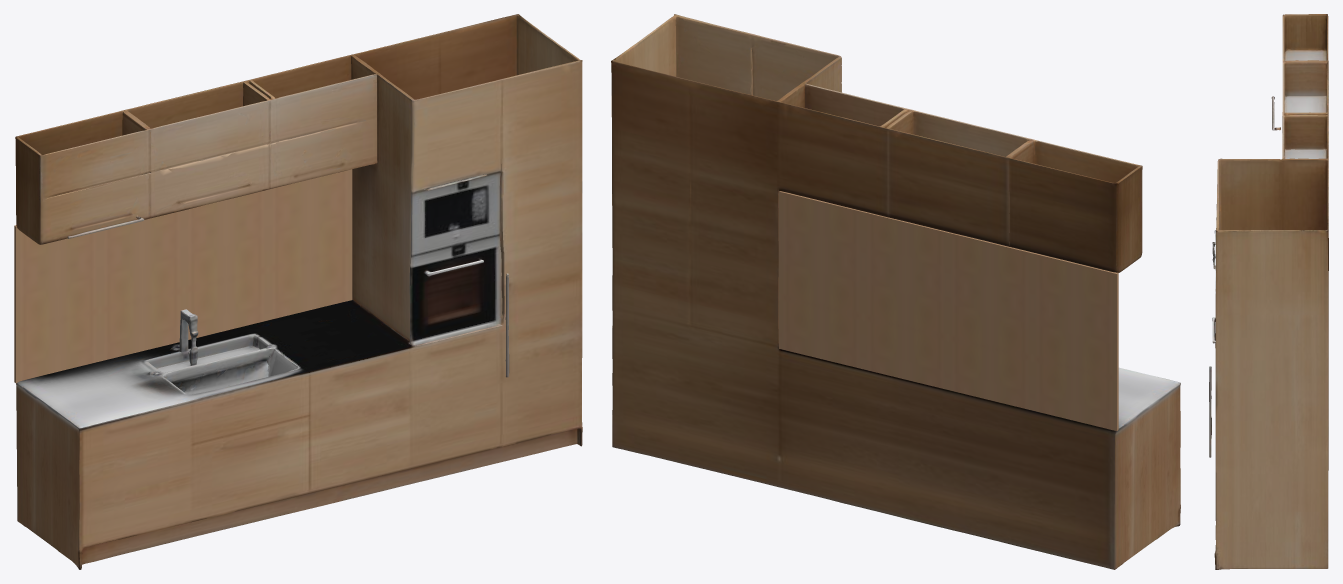
File: kitchen-counter-v2.glb
3 renders of one model, left to right at view 1: azimuth 30°, elevation 25°; view 2: azimuth 150°, elevation 25°; view 3: azimuth 270°, elevation 25°, orthographic. The views are drawn at different scales.
Parts seen in each view (by area): view 1: kitchen_s42_m.glb; view 2: kitchen_s42_m.glb; view 3: kitchen_s42_m.glb.
Boxes of the visible parts, <box> form: kitchen_s42_m.glb: <box>14,14,582,569</box>; kitchen_s42_m.glb: <box>611,14,1180,569</box>; kitchen_s42_m.glb: <box>1209,14,1328,569</box>.
Size of the model in its own units: 3 by 2.2 by 0.7.
1 material, 1 textured.
